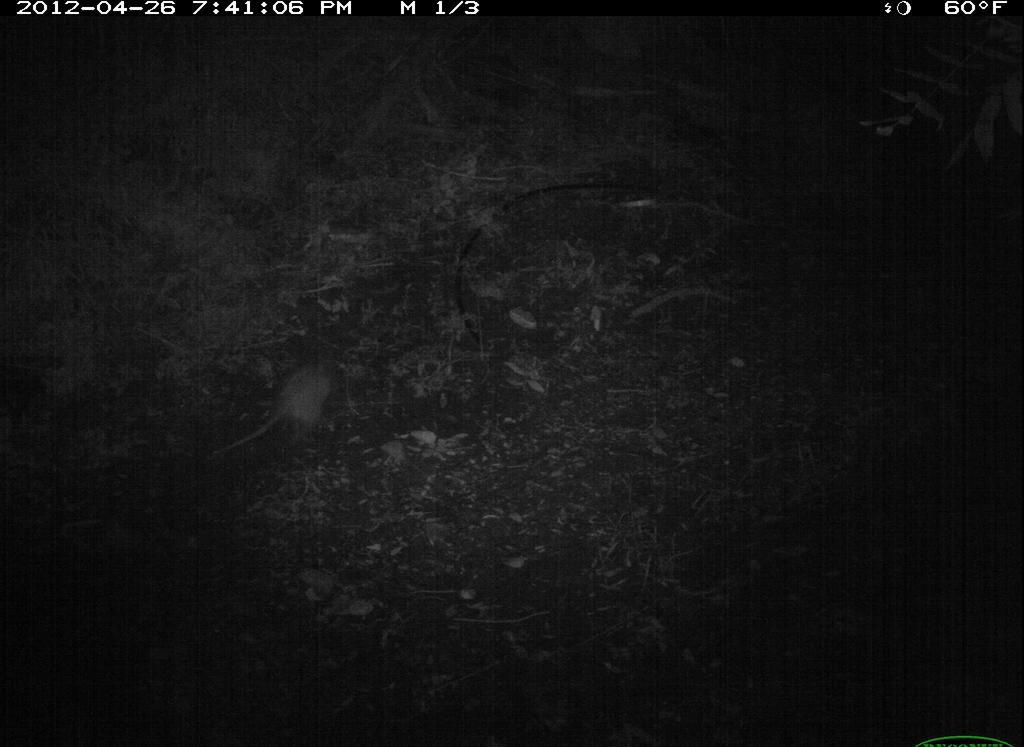opossum: (207, 345, 354, 464)
